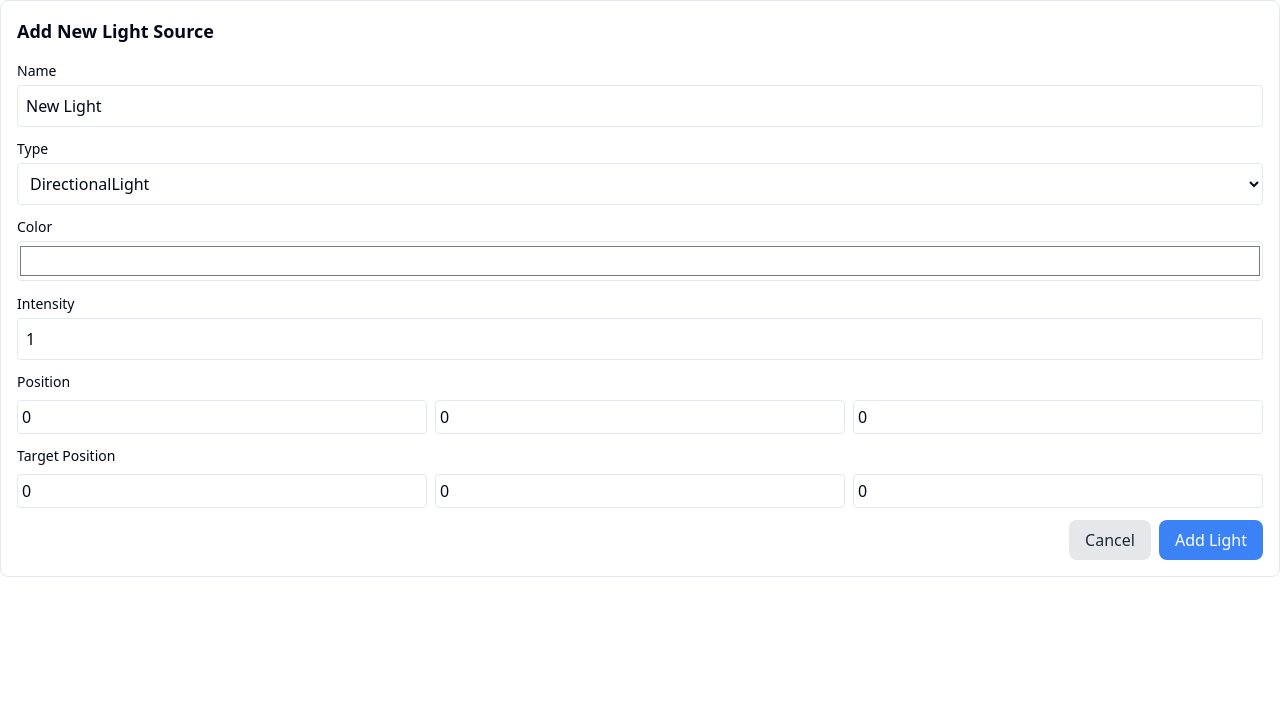
Test: LightCreator › conditionally renders distance and decay for point light
Select "PointLight" in the dropdown labelled "Type" at {"x": 640, "y": 184}, box [17,163,1263,205]
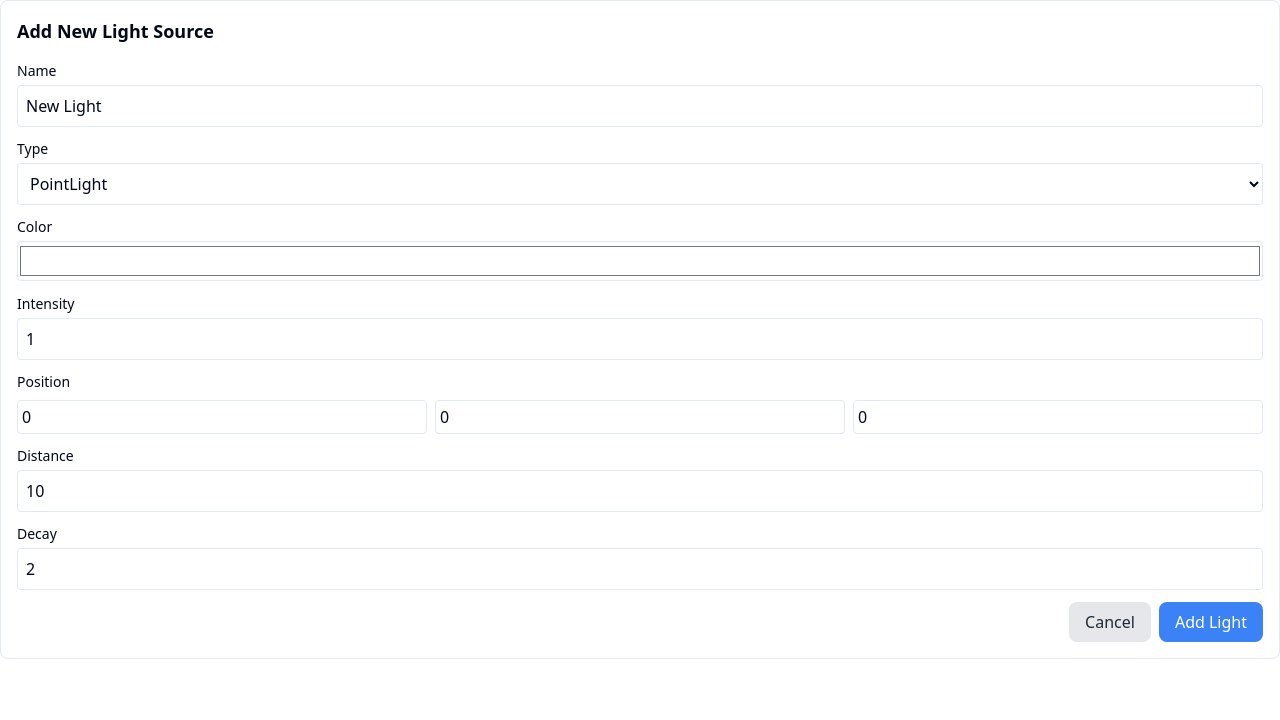
Expected: the number field labelled "Distance" is shown, [17,470,1263,512]
Expected: the number field labelled "Decay" is shown, [17,548,1263,590]
Expected: the label labelled "Target Position" is gone
